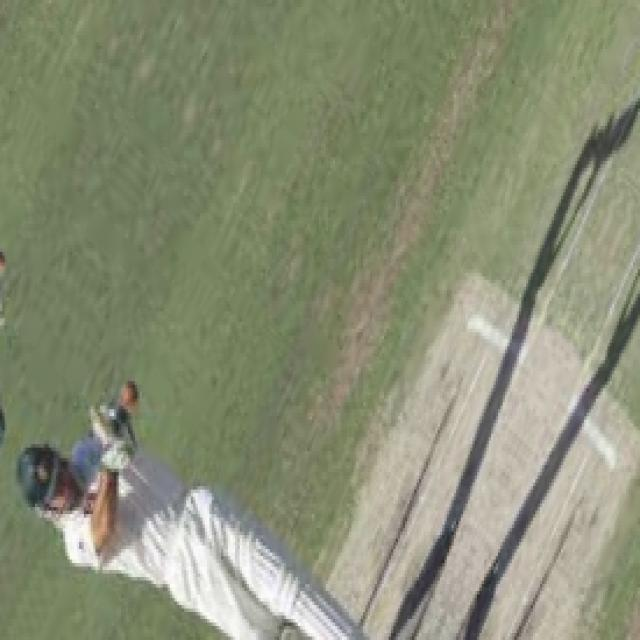toe: (89, 404, 114, 443)
